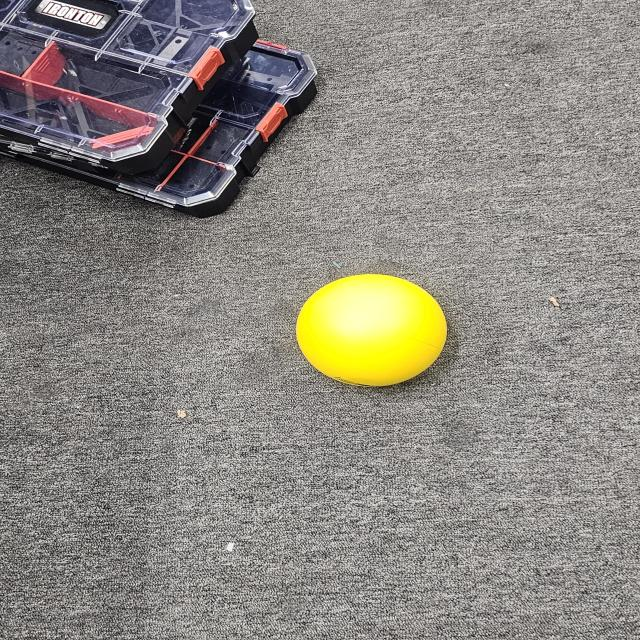Fuel: (290, 270, 453, 392)
